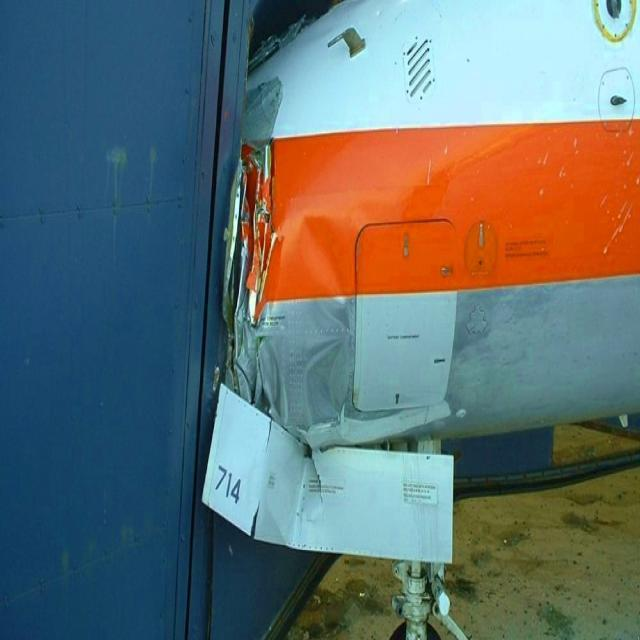dent: (289, 207, 354, 439)
